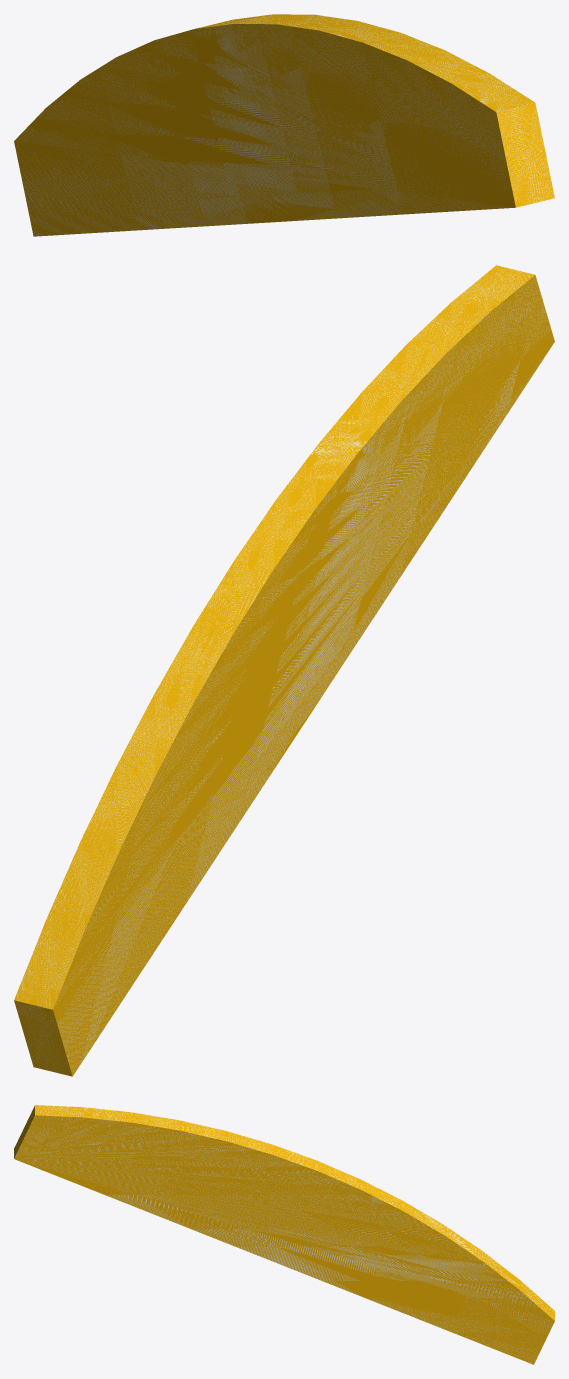
The model's file is original-96.obj.
3 views of the same model, one above another, from view 1: azimuth 30°, elevation 25°; view 2: azimuth 150°, elevation 25°; view 3: azimuth 270°, elevation 25° (orthographic). The views are drawn at different scales.
Visible parts, largest first — view 1: Arches3/Arches/mesh18/mesh18-geometry#mesh18-geometry; view 2: Arches3/Arches/mesh18/mesh18-geometry#mesh18-geometry; view 3: Arches3/Arches/mesh18/mesh18-geometry#mesh18-geometry.
Part boxes in pixels (x1=…): Arches3/Arches/mesh18/mesh18-geometry#mesh18-geometry: x1=14, y1=14, x2=554, y2=236; Arches3/Arches/mesh18/mesh18-geometry#mesh18-geometry: x1=14, y1=265, x2=554, y2=1076; Arches3/Arches/mesh18/mesh18-geometry#mesh18-geometry: x1=14, y1=1105, x2=554, y2=1364.
Size of the model in its own units: 0.0325 by 0.3685 by 0.7238.
